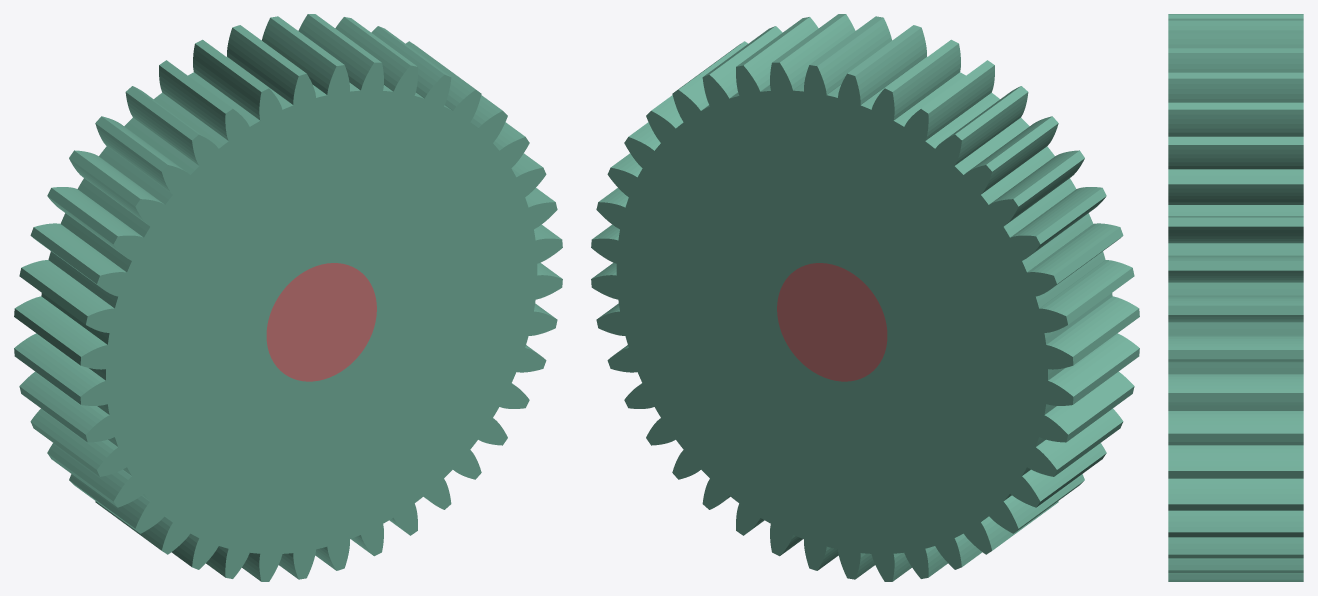
The model's file is step_13.glb.
The picture shows the model from 3 angles, left to right: view 1: azimuth 30°, elevation 25°; view 2: azimuth 150°, elevation 25°; view 3: azimuth 270°, elevation 25°; orthographic projection.
Visible parts, largest first — view 1: part__gear wheel, removed__gear wheel; view 2: part__gear wheel, removed__gear wheel; view 3: part__gear wheel.
Part boxes in pixels (x1=…): part__gear wheel: x1=14, y1=14, x2=562, y2=581; removed__gear wheel: x1=266, y1=263, x2=376, y2=381; part__gear wheel: x1=591, y1=14, x2=1139, y2=581; removed__gear wheel: x1=777, y1=263, x2=887, y2=381; part__gear wheel: x1=1168, y1=14, x2=1303, y2=581.
Size of the model in its own units: 105 by 105 by 25.
